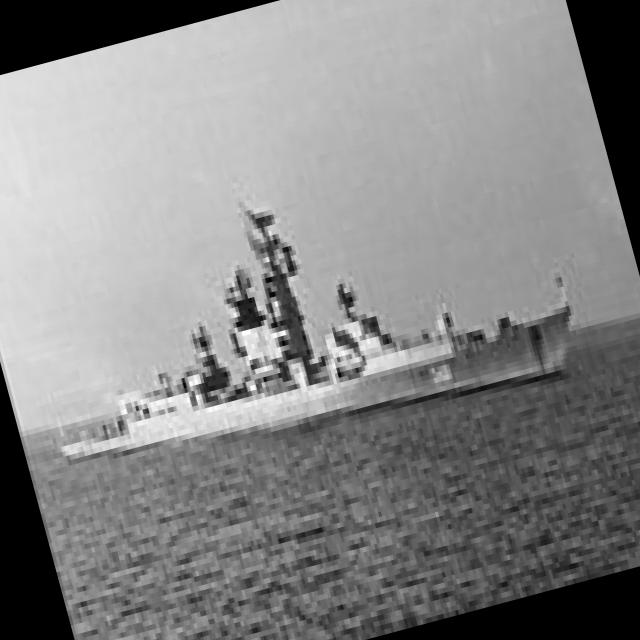boat: (62, 217, 588, 502)
